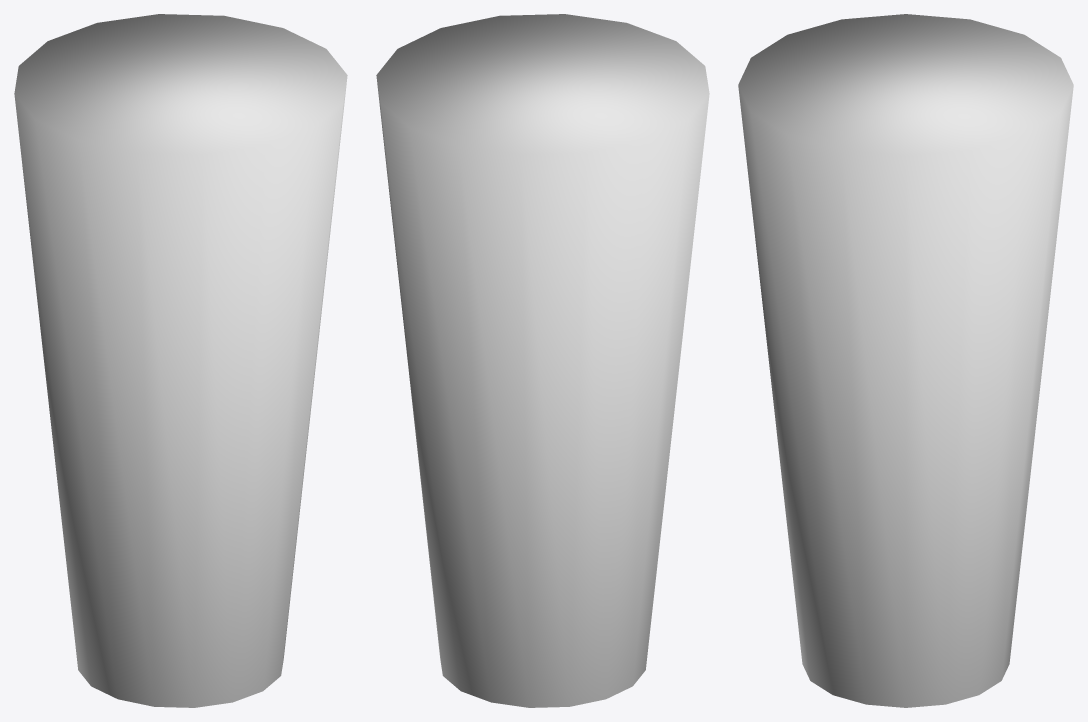
File: Office_Deco.fbx
3 renders of one model, left to right at view 1: azimuth 30°, elevation 25°; view 2: azimuth 150°, elevation 25°; view 3: azimuth 270°, elevation 25°, orthographic.
Visible parts, largest first — view 1: Office_Deco; view 2: Office_Deco; view 3: Office_Deco.
Part boxes in pixels (x1=…): Office_Deco: x1=14, y1=14, x2=347, y2=707; Office_Deco: x1=376, y1=14, x2=709, y2=707; Office_Deco: x1=738, y1=14, x2=1073, y2=707.
Bounding box in the file's own units: 40 × 76.19 × 40.
